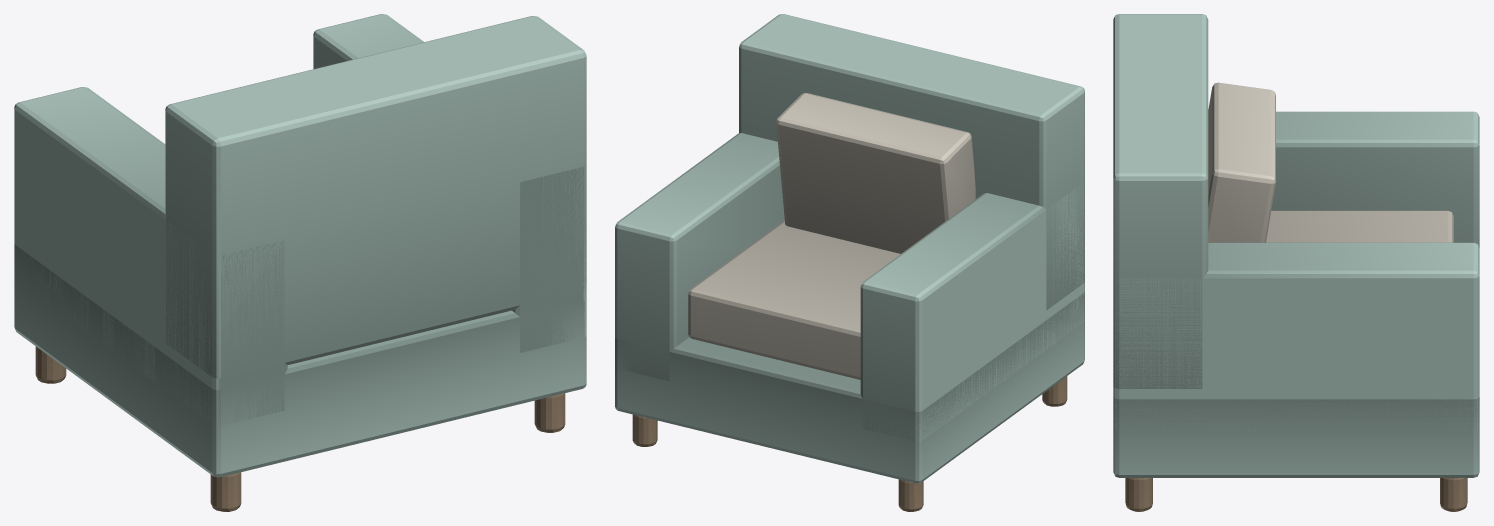
Rendered from furn_armchair__mint.glb.
The picture shows the model from 3 angles, left to right: view 1: azimuth 30°, elevation 25°; view 2: azimuth 150°, elevation 25°; view 3: azimuth 270°, elevation 25°; orthographic projection. The views are drawn at different scales.
Bounding box in the file's own units: 0.9 × 0.88 × 0.85.
